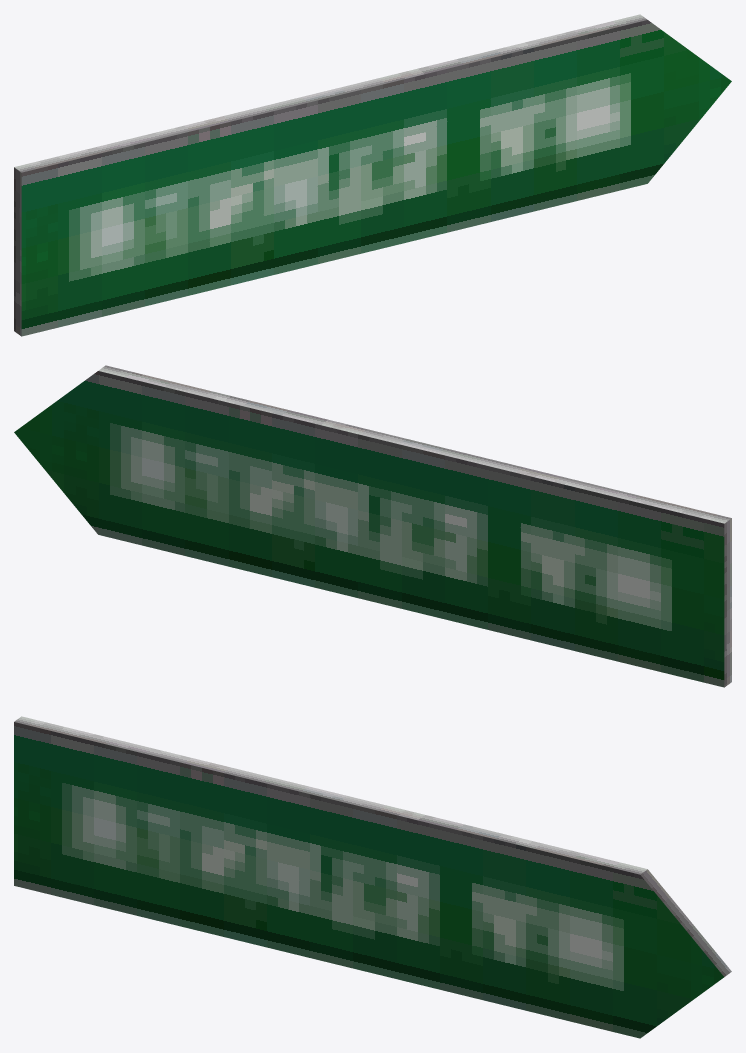
Rendered from pointingright_sign.fbx.
3 views of the same model, one above another, from view 1: azimuth 30°, elevation 25°; view 2: azimuth 150°, elevation 25°; view 3: azimuth 330°, elevation 25° (orthographic).
Visible parts, largest first — view 1: mesh_0; view 2: mesh_0; view 3: mesh_0.
Boxes of the visible parts, x1,y1,x2,y2 form: mesh_0: (14, 14, 731, 336); mesh_0: (14, 365, 731, 687); mesh_0: (14, 716, 731, 1038).
Size of the model in its own units: 90.71 by 20 by 1.67.
Materials: 1 (1 with a texture image).
